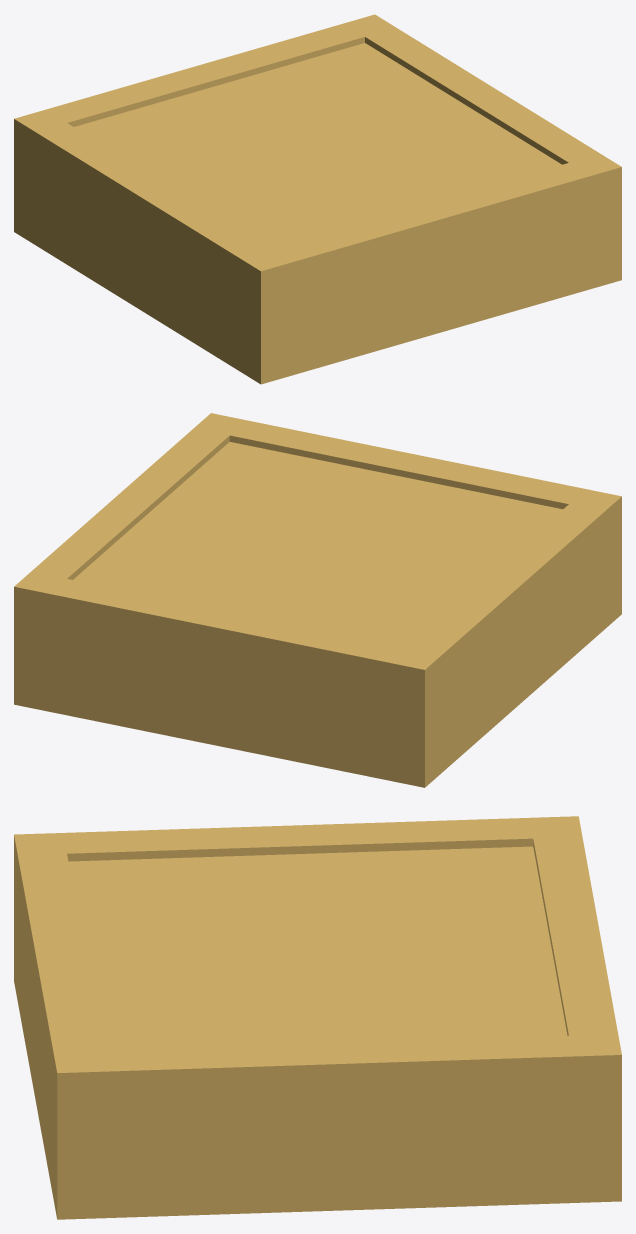
Rendered from b_platform_fill.fbx.
3 views of the same model, one above another, from view 1: azimuth 30°, elevation 25°; view 2: azimuth 150°, elevation 25°; view 3: azimuth 270°, elevation 25° (orthographic). The views are drawn at different scales.
Visible parts, largest first — view 1: pCube3; view 2: pCube3; view 3: pCube3.
Boxes of the visible parts, x1,y1,x2,y2 form: pCube3: (14,14,621,384); pCube3: (14,413,621,787); pCube3: (14,816,621,1219).
Size of the model in its own units: 10.31 by 2.74 by 10.31.
